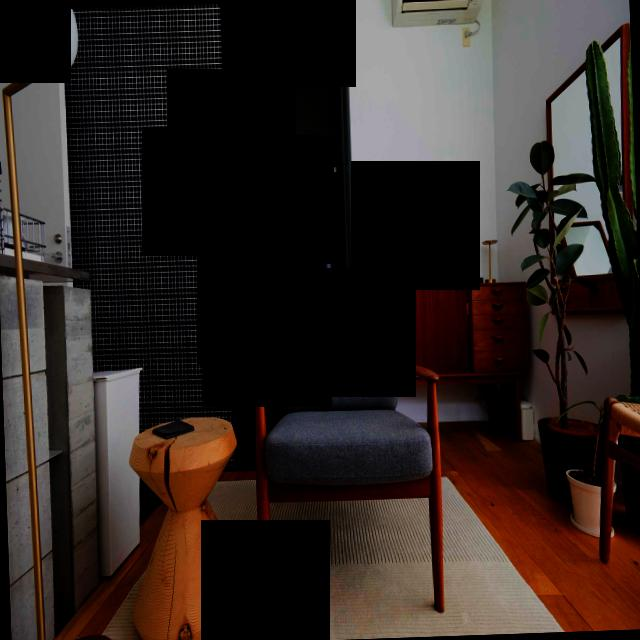vintage chair: (248, 285, 448, 620)
vintage desk: (127, 410, 242, 640)
vintage shelf: (388, 277, 529, 390)
